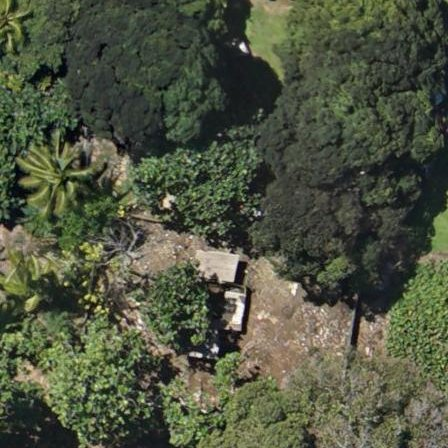palm_tree: (20, 140, 89, 213)
